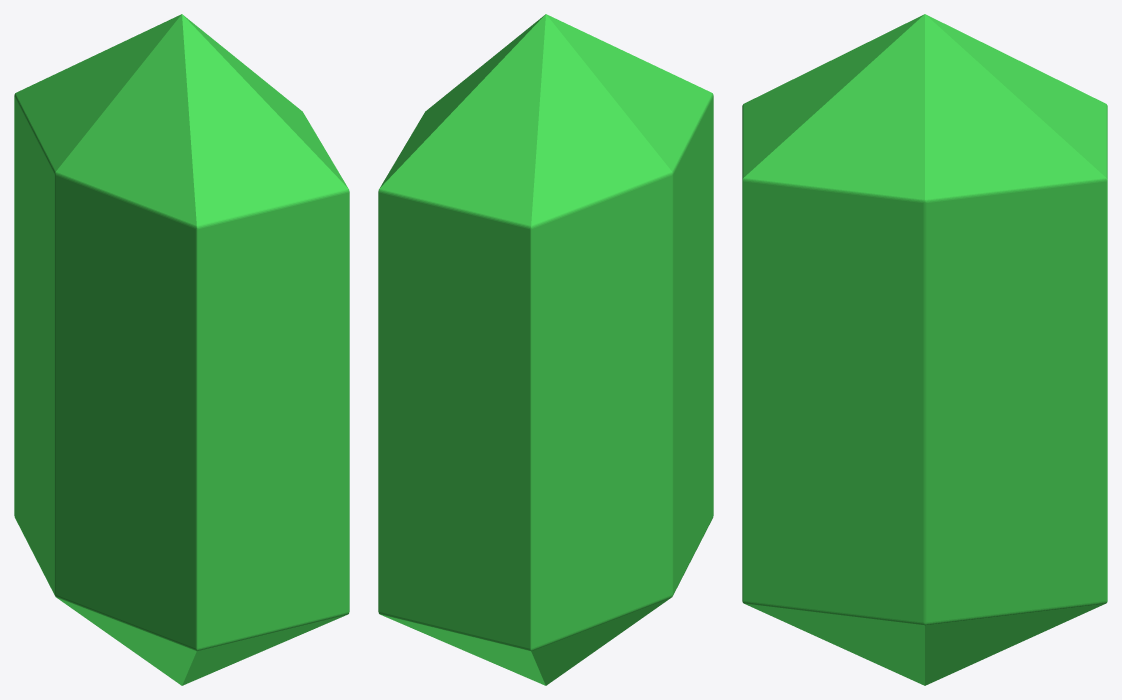
Rendered from Piedra_Trueno.fbx.
3 renders of one model, left to right at view 1: azimuth 30°, elevation 25°; view 2: azimuth 150°, elevation 25°; view 3: azimuth 270°, elevation 25°, orthographic.
Parts seen in each view (by area): view 1: Piedra_trueno; view 2: Piedra_trueno; view 3: Piedra_trueno.
Part boxes in pixels (x1=…): Piedra_trueno: x1=14, y1=14, x2=349, y2=685; Piedra_trueno: x1=378, y1=14, x2=713, y2=685; Piedra_trueno: x1=742, y1=14, x2=1107, y2=685.
Bounding box in the file's own units: 90.8 × 235 × 116.
